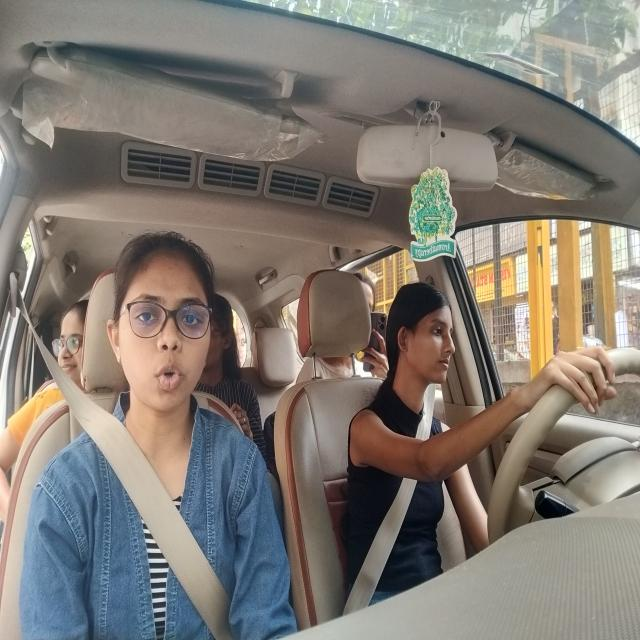person: (109, 231, 213, 425), (390, 277, 458, 400), (54, 303, 91, 381), (208, 289, 235, 386), (357, 272, 385, 364)
